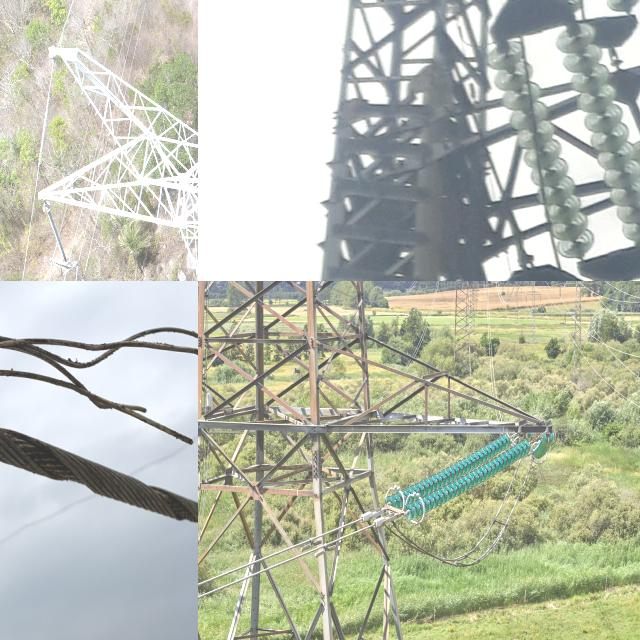杆塔: (292, 0, 640, 281), (198, 281, 431, 640), (41, 29, 198, 281), (563, 281, 594, 377), (446, 281, 482, 344)
正常电缆: (198, 501, 391, 602)
正常绝缘子: (473, 28, 613, 274), (542, 11, 640, 272), (375, 424, 547, 523), (39, 200, 75, 280)
电缆破损: (0, 281, 198, 528)
